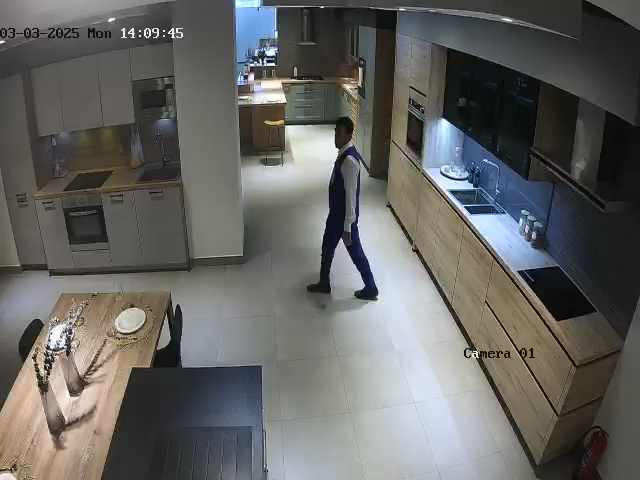employee: (306, 116, 379, 301)
